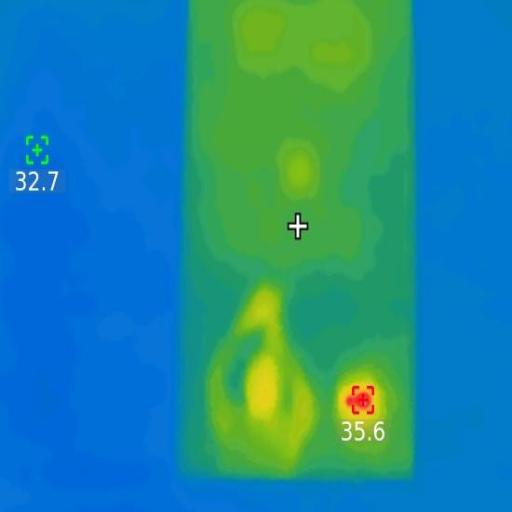hotspot: (350, 388, 376, 416)
